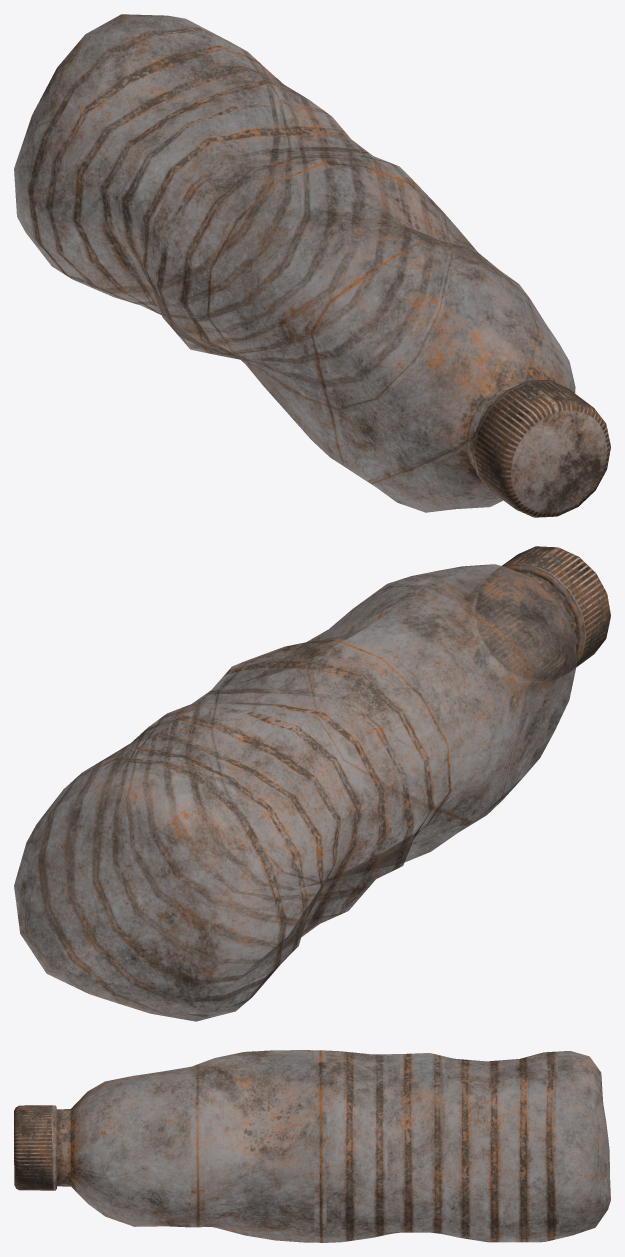
The model's file is low_poly_dirty_plastic_bottle_-_game_ready.glb.
The picture shows the model from 3 angles, top to bottom: view 1: azimuth 30°, elevation 25°; view 2: azimuth 150°, elevation 25°; view 3: azimuth 270°, elevation 25°; orthographic projection. The views are drawn at different scales.
Parts seen in each view (by area): view 1: Beat_Water; view 2: Beat_Water; view 3: Beat_Water.
Part boxes in pixels (<box>): Beat_Water: <box>14,14,610,517</box>; Beat_Water: <box>14,546,610,1021</box>; Beat_Water: <box>14,1050,610,1242</box>.
Bounding box in the file's own units: 0.0672 × 0.0669 × 0.2083.
Materials: 1 (1 with a texture image).
